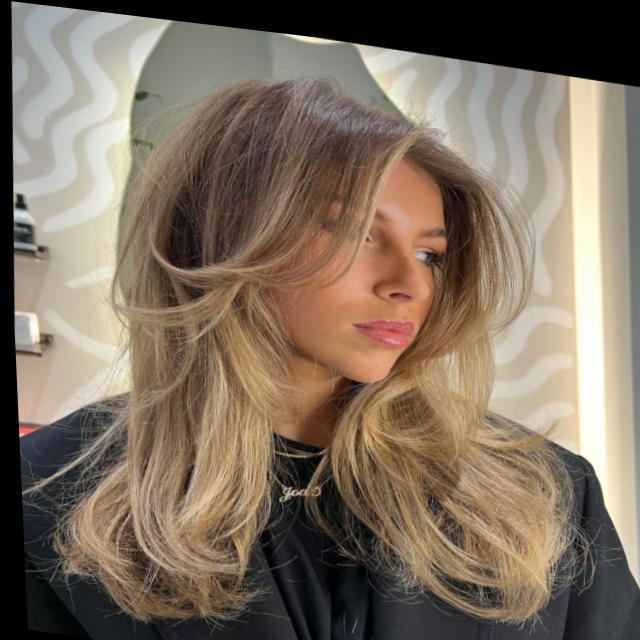Nonhelmet: (277, 148, 452, 386)
